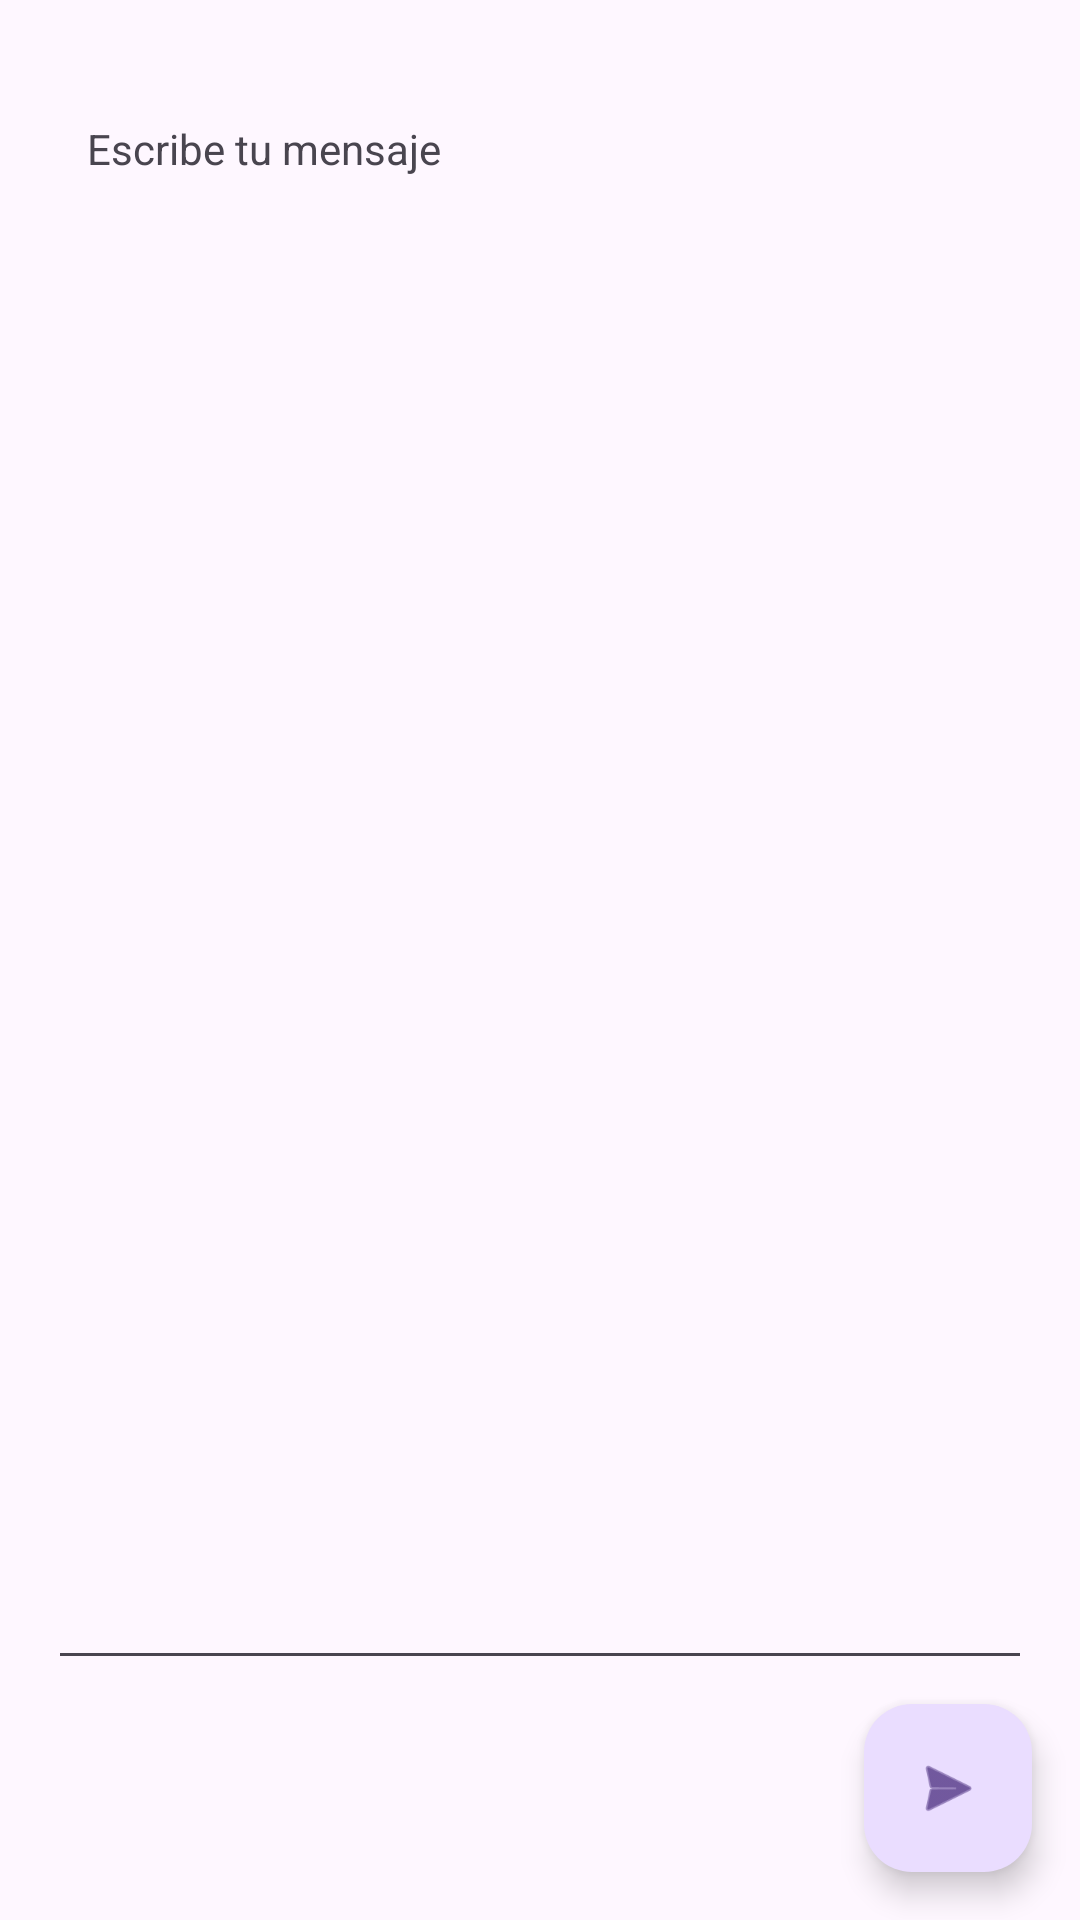

Icon click points for this 1080*1920 phone screenshot, format point (x, y):
send: point (948, 1788)
